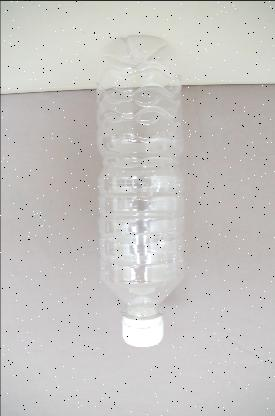Plastic Bottle: (94, 35, 186, 347)
